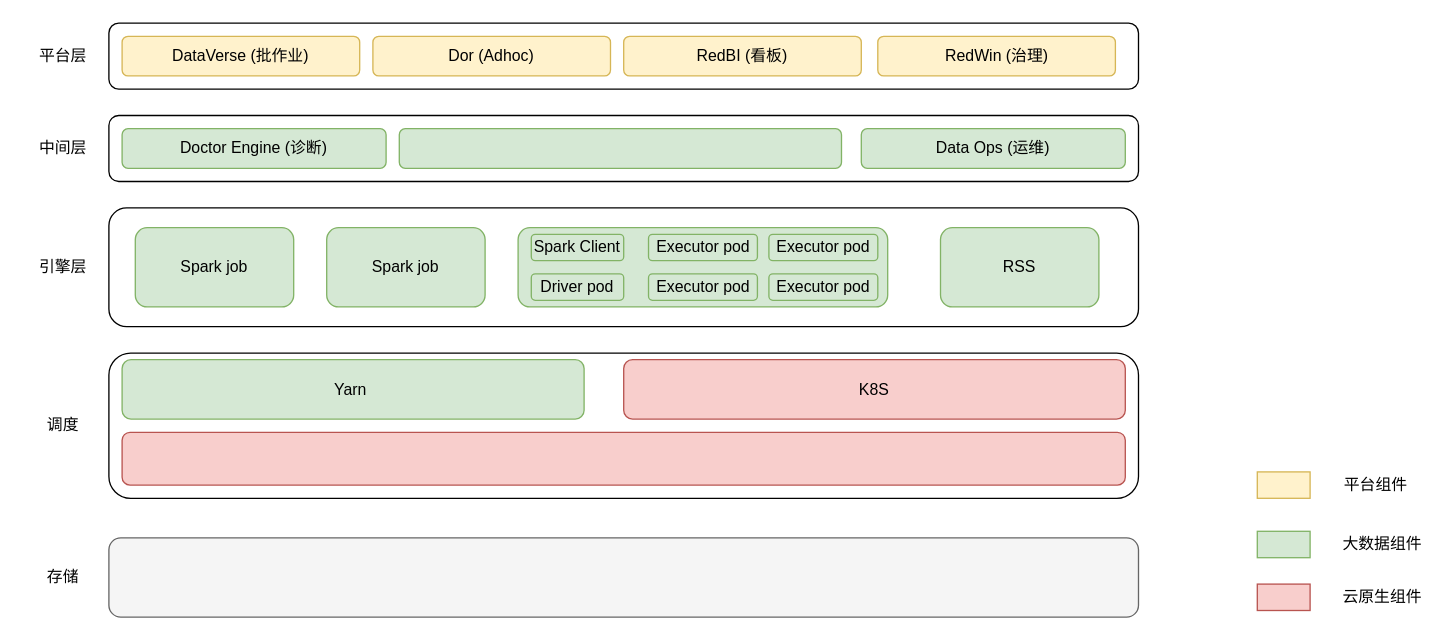
The diagram is 1451 pixels wide and 640 high, and some of its shapes have lost their labels. The centre of each missing label's shape, as x and y in pixels:
Kyubbi & Dragon gate (网关): the point at 620,147
OSS: the point at 623,577
硬件资源管控: the point at 623,458
